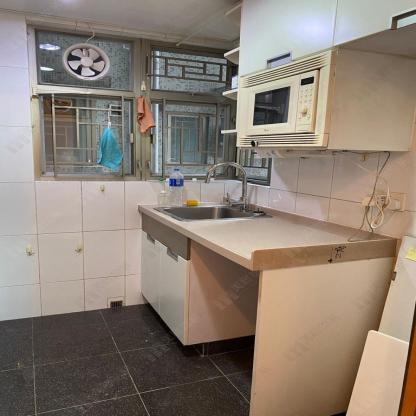Cupboard: (235, 0, 415, 78), (137, 211, 190, 349)
Exhaust Fan: (61, 37, 114, 84)
Faucet: (201, 159, 254, 211)
Microwave: (235, 48, 337, 150)
Sink: (153, 202, 276, 222)
